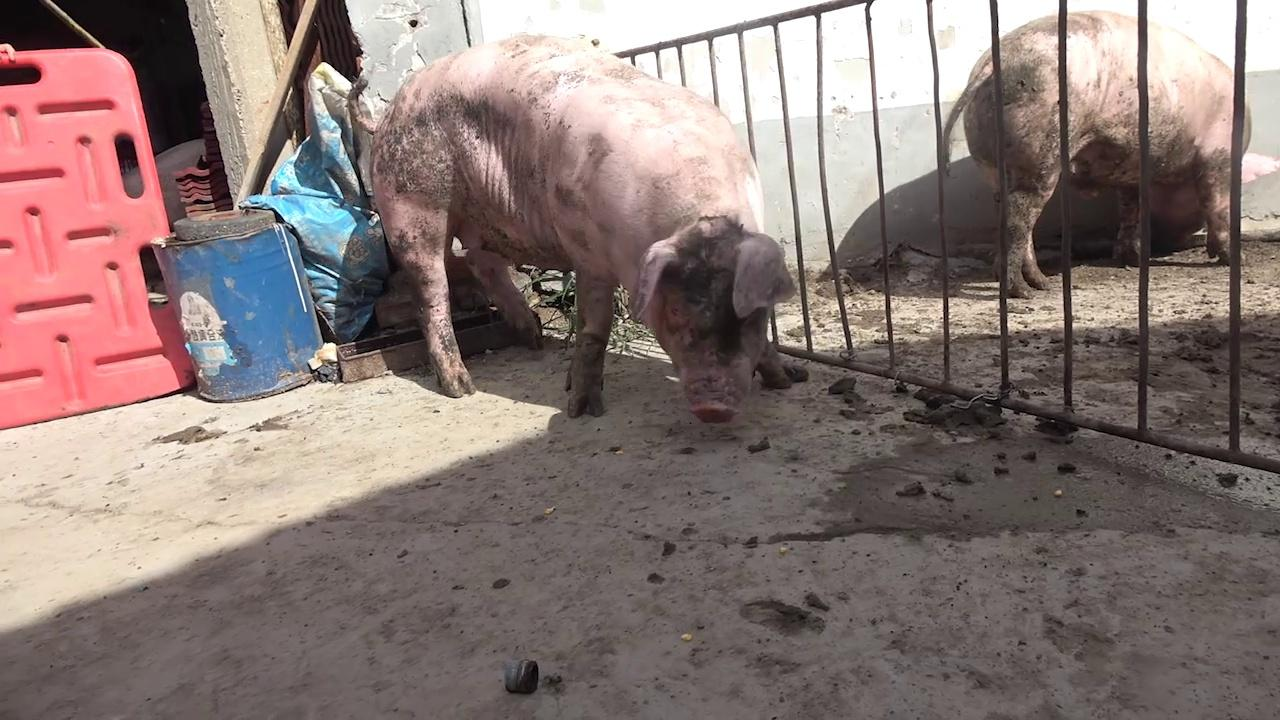Face: (620, 213, 808, 433)
